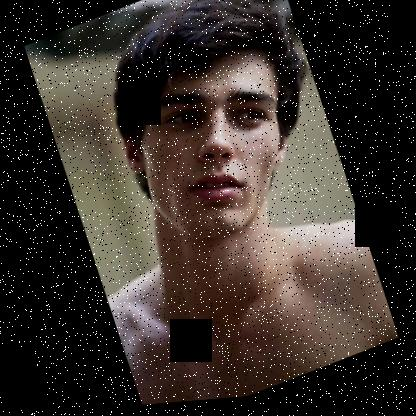Male: (107, 42, 315, 265)
